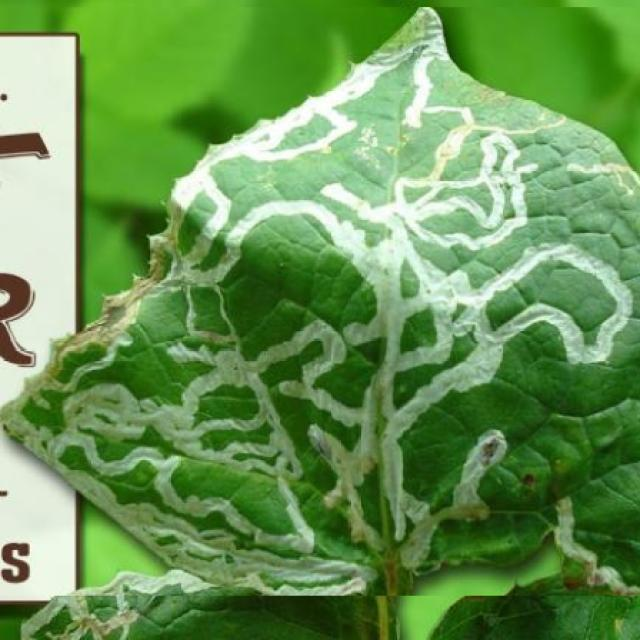Leaf Miner: (0, 7, 640, 596)
